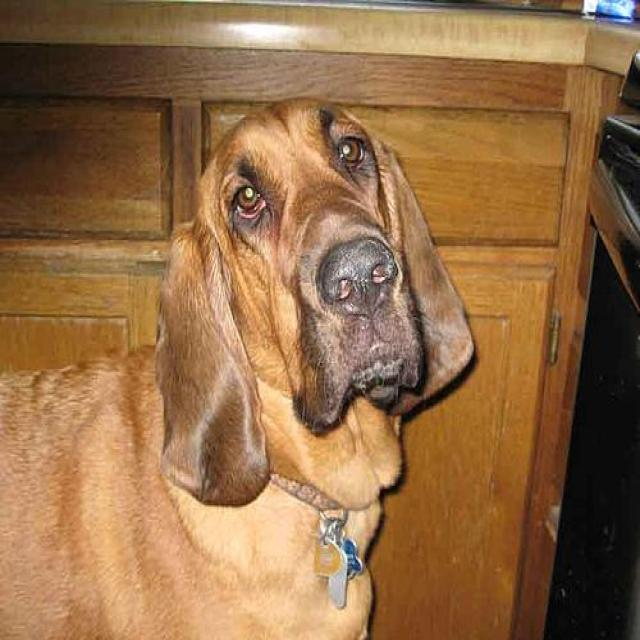bloodhound: (0, 89, 474, 637)
